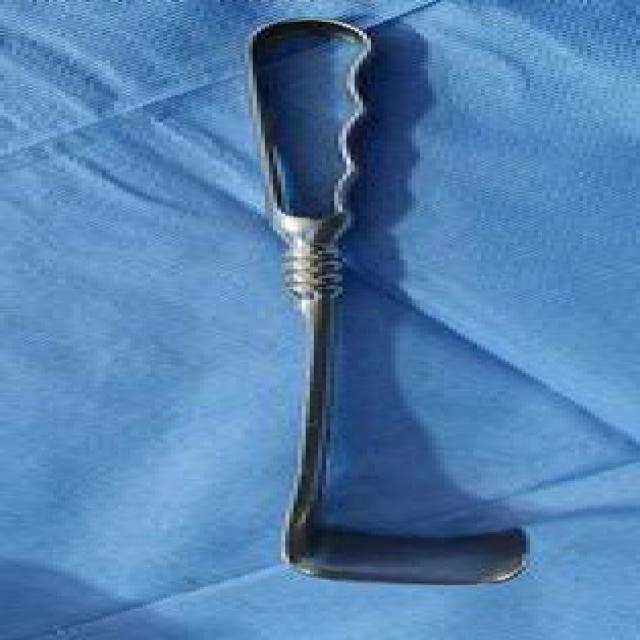Richardson: (236, 12, 538, 590)
